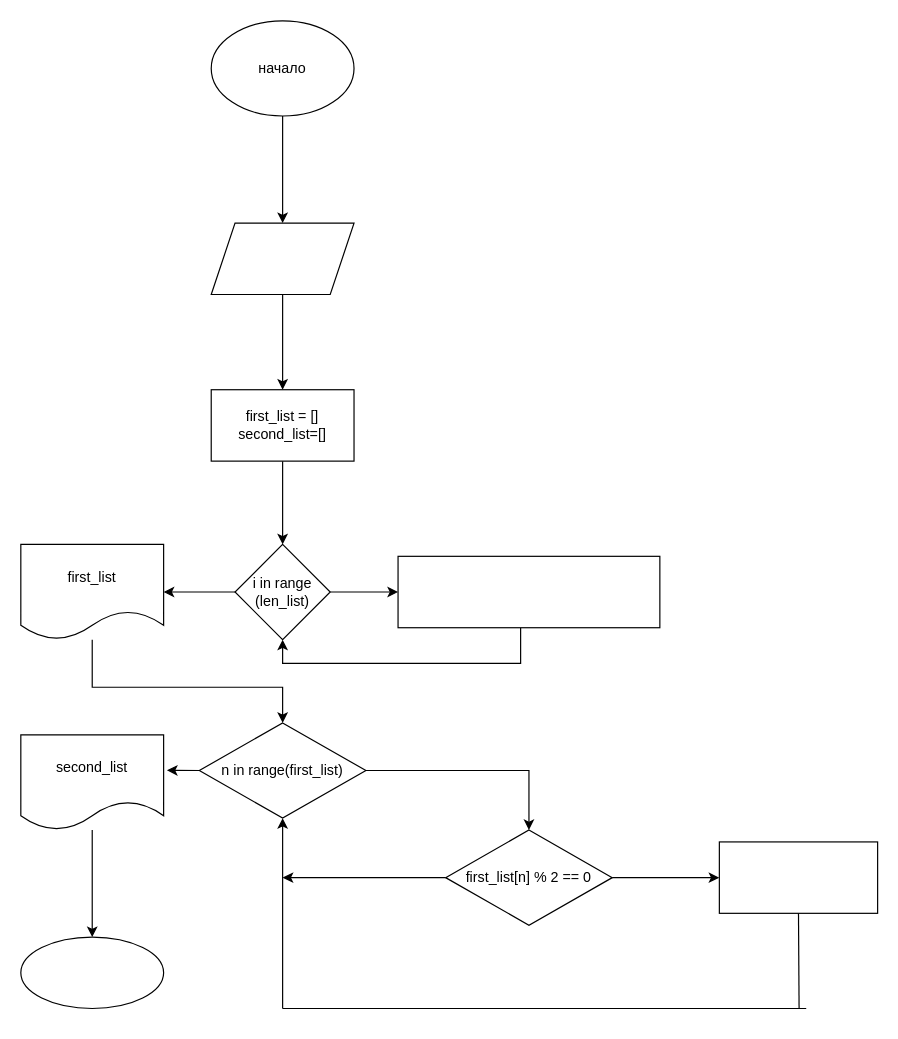
The diagram is 898 pixels wide and 1039 high, and some of its shapes have lost their labels. Here are the shapes that lost their labels. From the top down, the box of each, then its label:
(210, 222, 354, 295): len_list
(397, 555, 660, 628): first_list.append(int(random()*100))
(718, 841, 878, 913): second_list.append(n)
(20, 936, 164, 1009): конец
